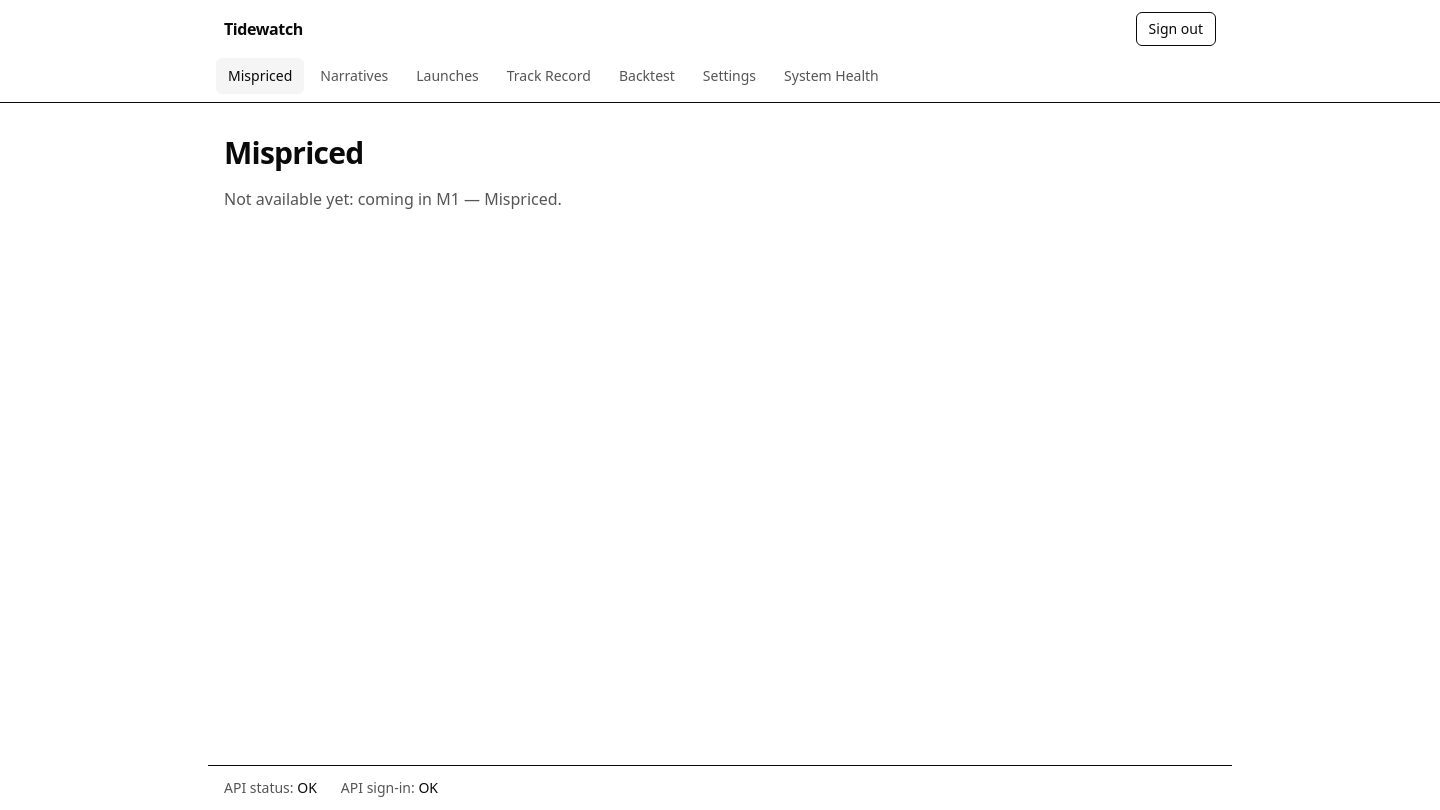
Test case: PER-11 dashboard shell › AC2 + AC3: "Narratives" opens at /narratives with its title (and "coming in" until built)
Click the link "Narratives" at (354, 76), box [320, 66, 388, 85]
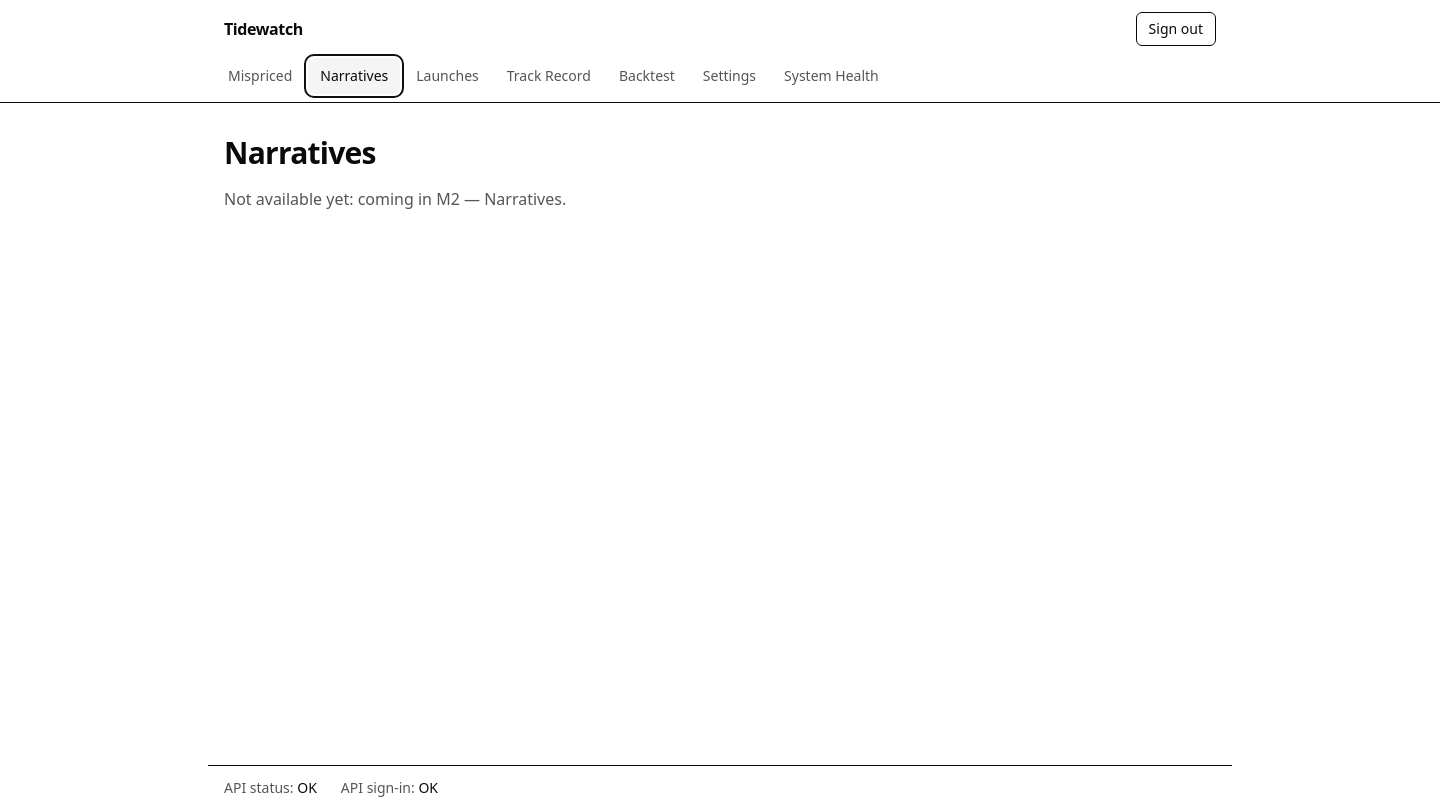
Check: the heading "Narratives" is shown, box [224, 132, 376, 173]
